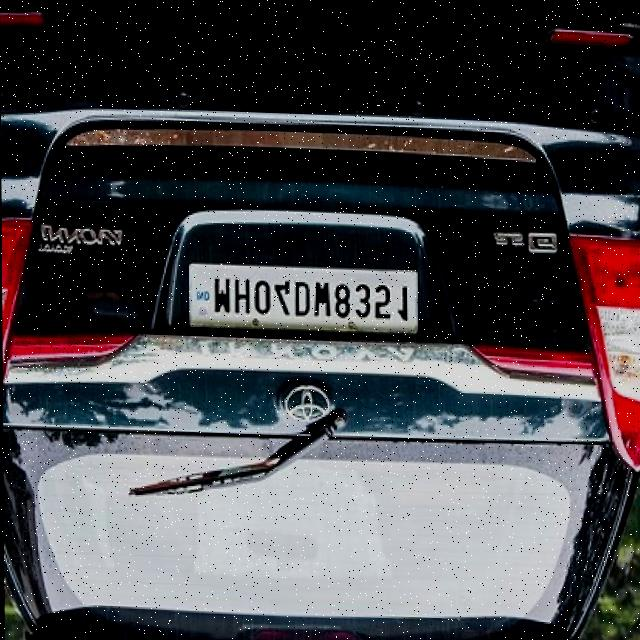plate: (190, 265, 417, 328)
